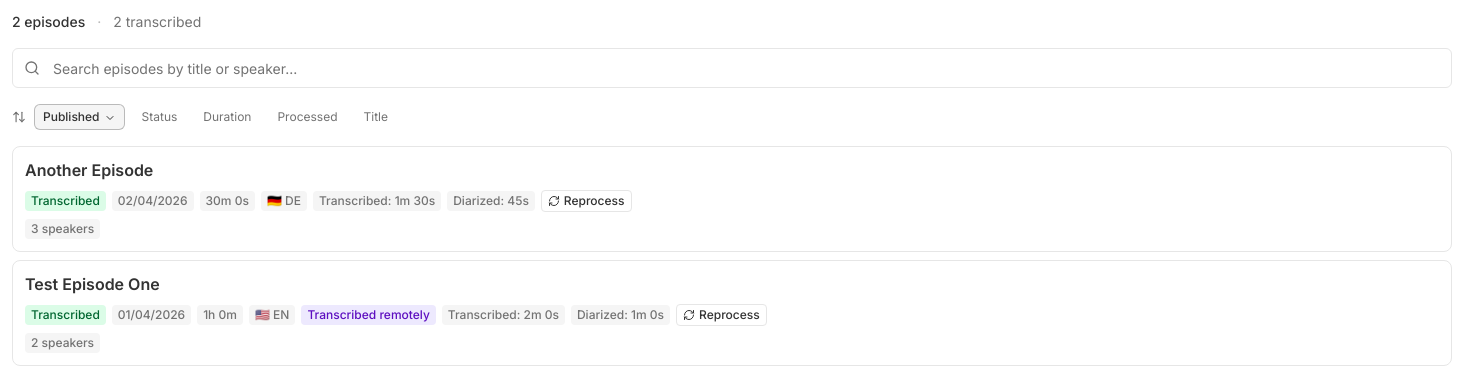
Test: EpisodesList — search / filter › clear button resets search and shows all episodes
Type "test" into the field labelled "Search episodes by title or speaker" at (732, 68), box left=12, top=48, right=1452, bottom=88
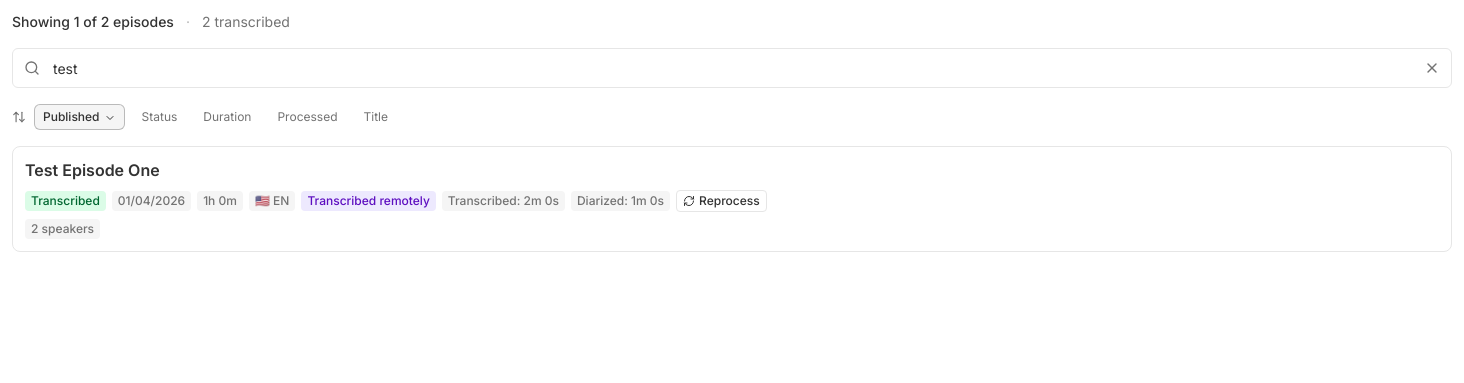
Expected: the text "Test Episode One" is shown, left=25, top=160, right=160, bottom=180
Expected: the text "Another Episode" is gone
Click the button named "Clear search" at (1432, 68), box left=1424, top=60, right=1440, bottom=76
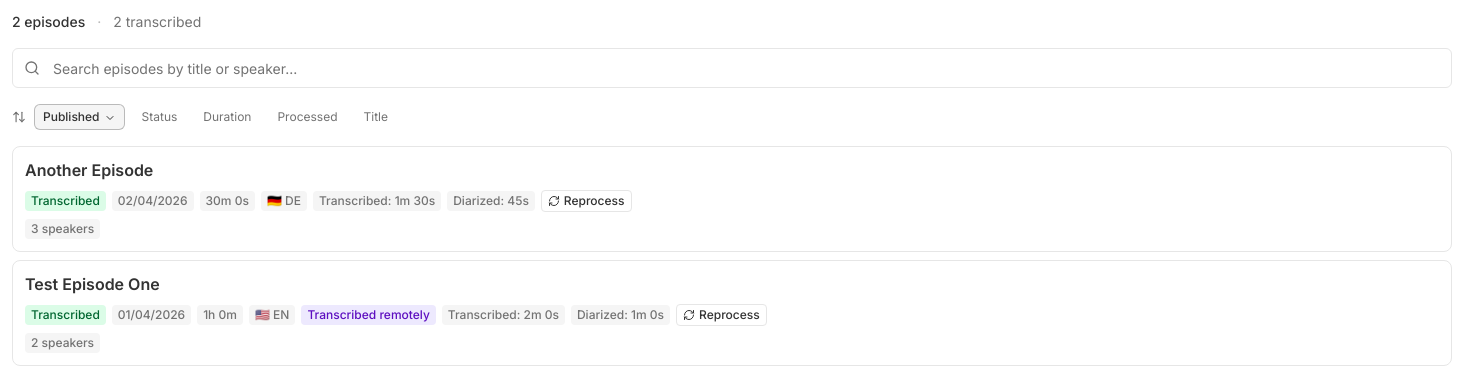
Expected: the text "Test Episode One" is shown, left=25, top=274, right=160, bottom=294
Expected: the text "Another Episode" is shown, left=25, top=160, right=153, bottom=180
